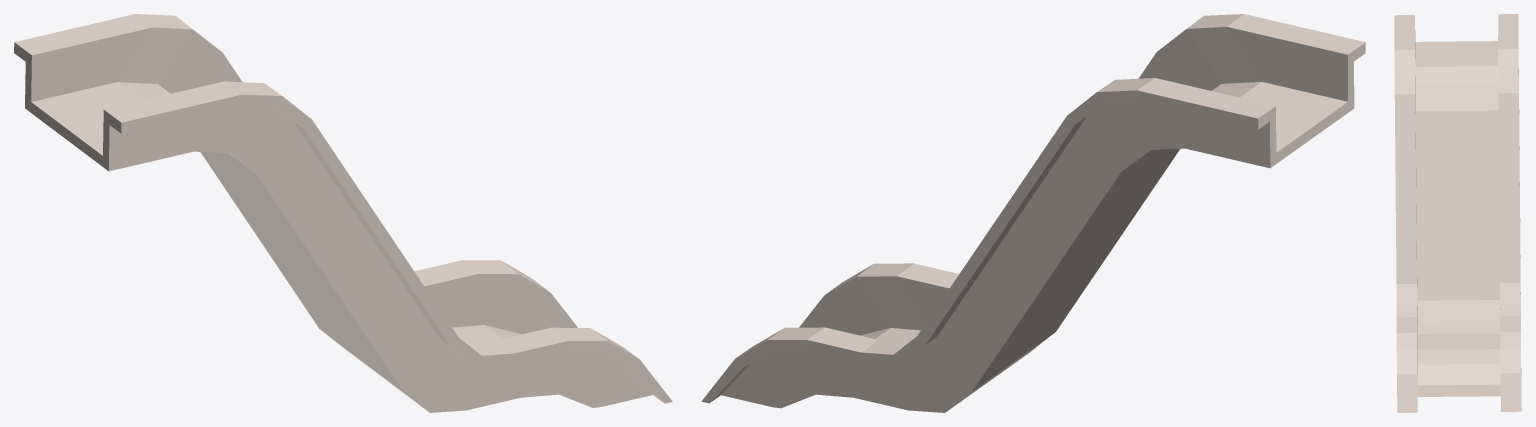
Rendered from Playground_childrenscomplex.fbx.
The picture shows the model from 3 angles, left to right: view 1: azimuth 30°, elevation 25°; view 2: azimuth 150°, elevation 25°; view 3: azimuth 270°, elevation 25°; orthographic projection. The views are drawn at different scales.
Parts seen in each view (by area): view 1: Playground_childrenscomplex; view 2: Playground_childrenscomplex; view 3: Playground_childrenscomplex.
Part boxes in pixels (bbox=[...]): Playground_childrenscomplex: bbox=[14, 14, 672, 412]; Playground_childrenscomplex: bbox=[701, 14, 1365, 412]; Playground_childrenscomplex: bbox=[1394, 14, 1521, 412].
Bounding box in the file's own units: 219 × 158 × 75.12.
